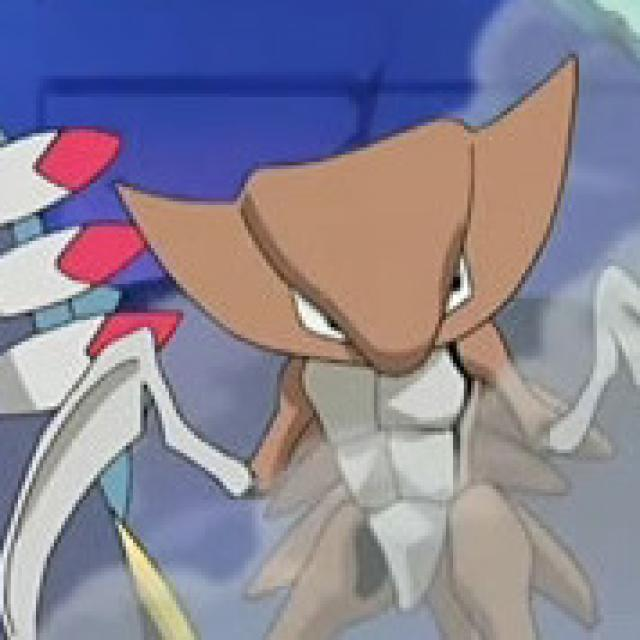Kabutops: (154, 69, 601, 640)
